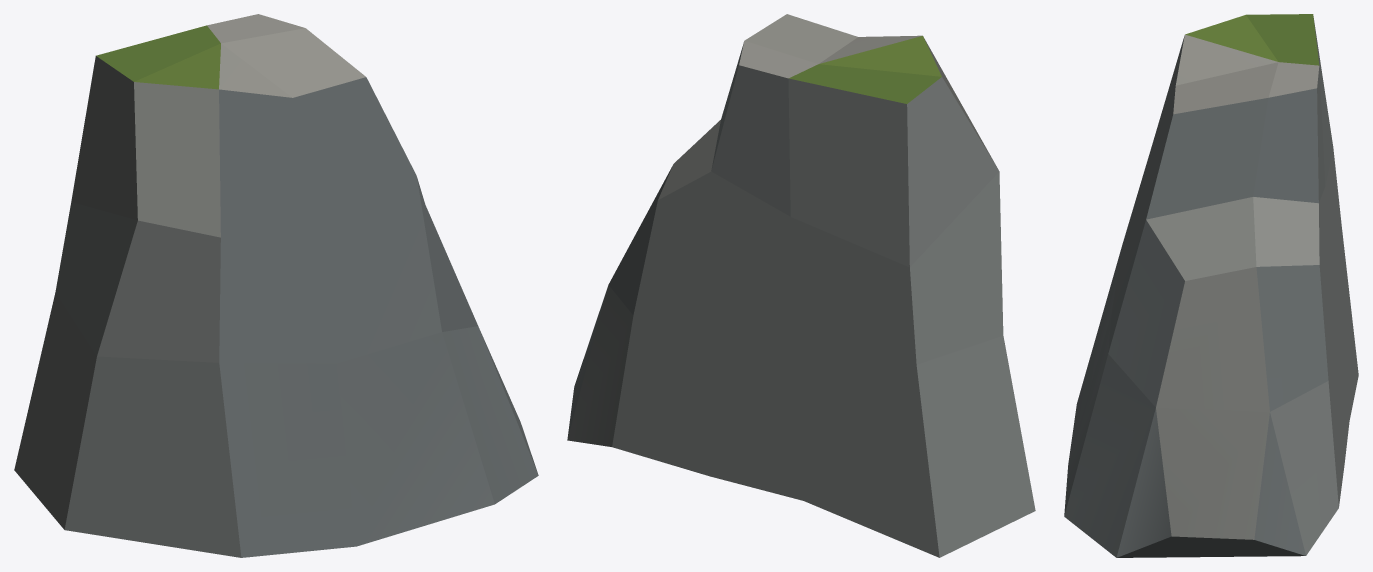
Rendered from wild_pz_rock_08.glb.
The picture shows the model from 3 angles, left to right: view 1: azimuth 30°, elevation 25°; view 2: azimuth 150°, elevation 25°; view 3: azimuth 270°, elevation 25°; orthographic projection. The views are drawn at different scales.
Visible parts, largest first — view 1: pg_rock6_08; view 2: pg_rock6_08; view 3: pg_rock6_08.
Boxes of the visible parts, bbox=[...] form: pg_rock6_08: bbox=[14, 14, 538, 557]; pg_rock6_08: bbox=[567, 14, 1035, 557]; pg_rock6_08: bbox=[1064, 14, 1358, 557].
Bounding box in the file's own units: 1.36 × 1.26 × 0.8485.
